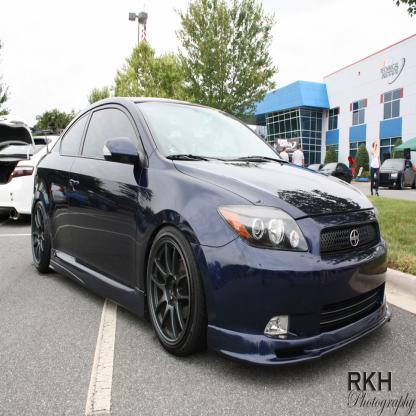Car: (31, 96, 394, 370), (0, 114, 67, 222), (373, 156, 415, 191), (318, 162, 354, 185), (307, 162, 327, 174)
